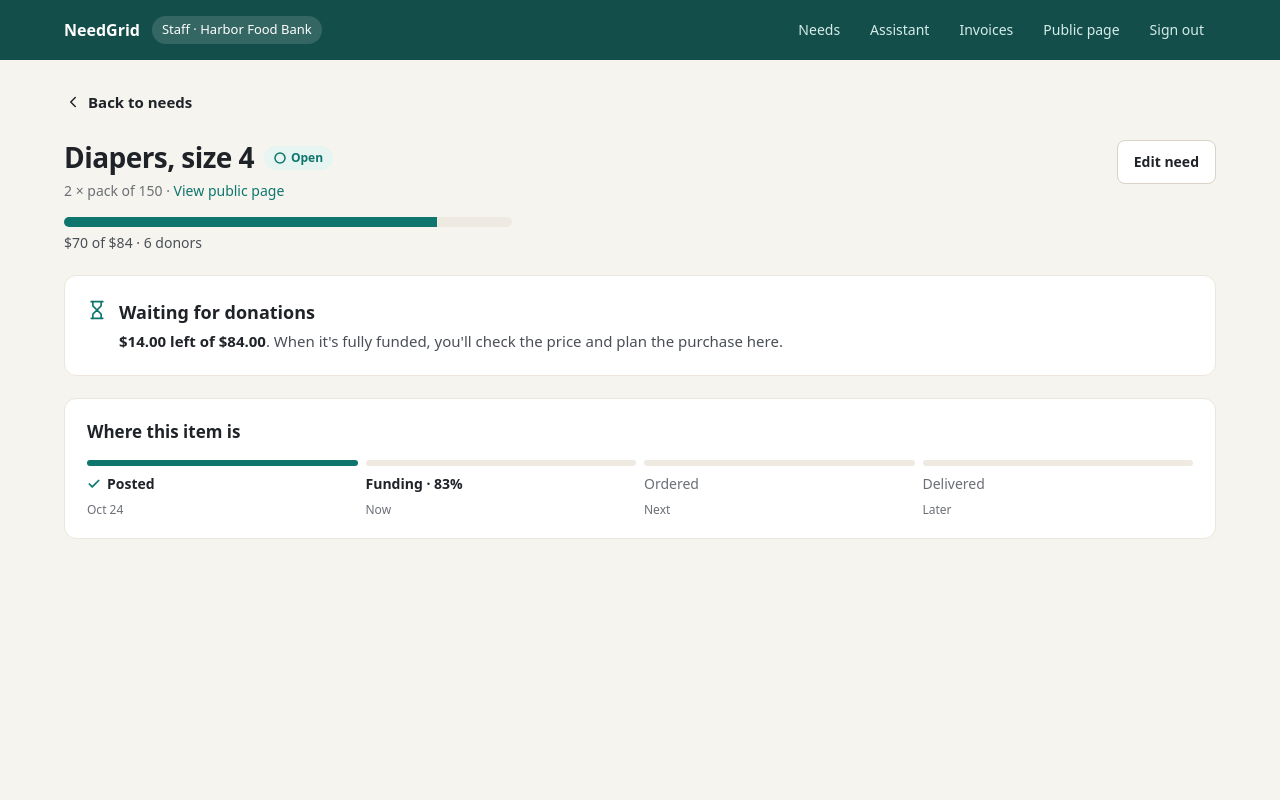
Test: Edit need dialog › closes without a request when nothing changed
The image size is (1280, 800).
expect the heading "Diapers, size 4" is shown: met, box [64, 140, 254, 175]
Click the button "Edit need" at (1166, 162), box [1117, 140, 1216, 184]
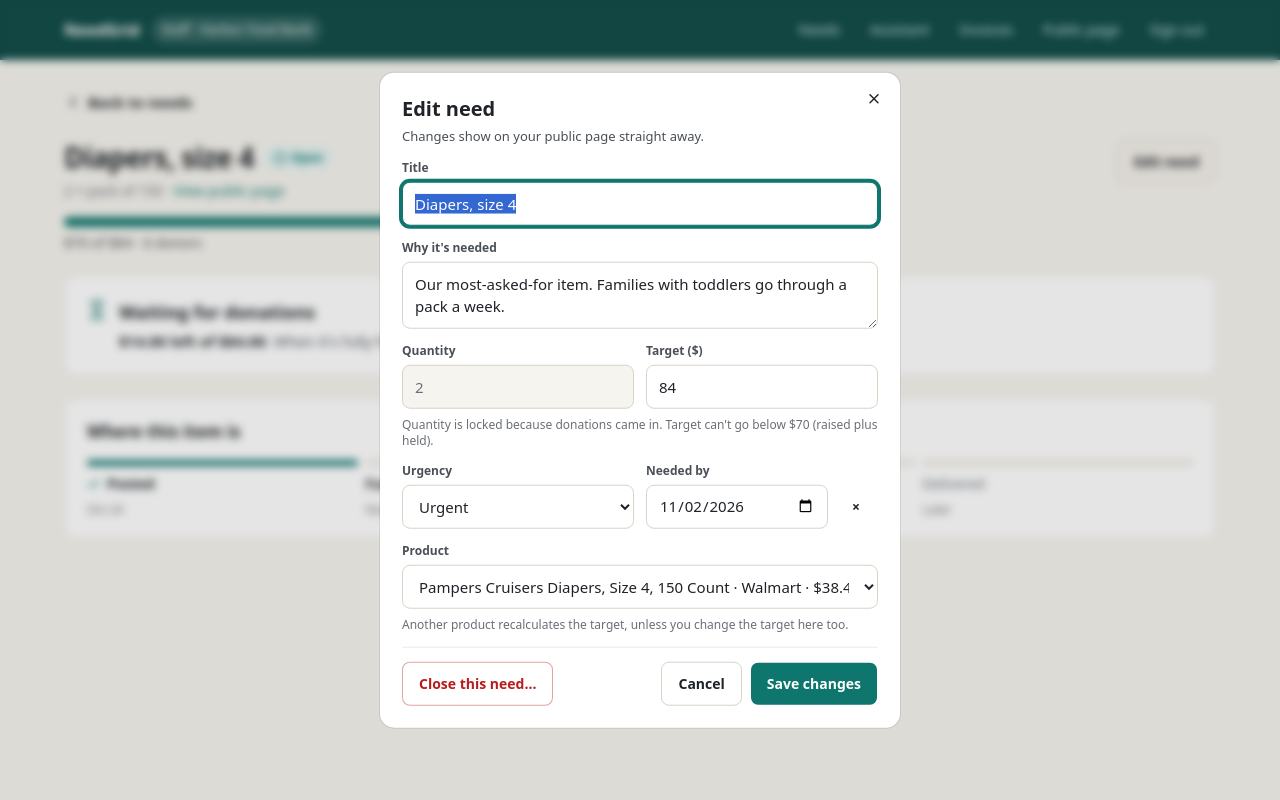
Click the button "Save changes" at (814, 683), box [750, 661, 878, 705]
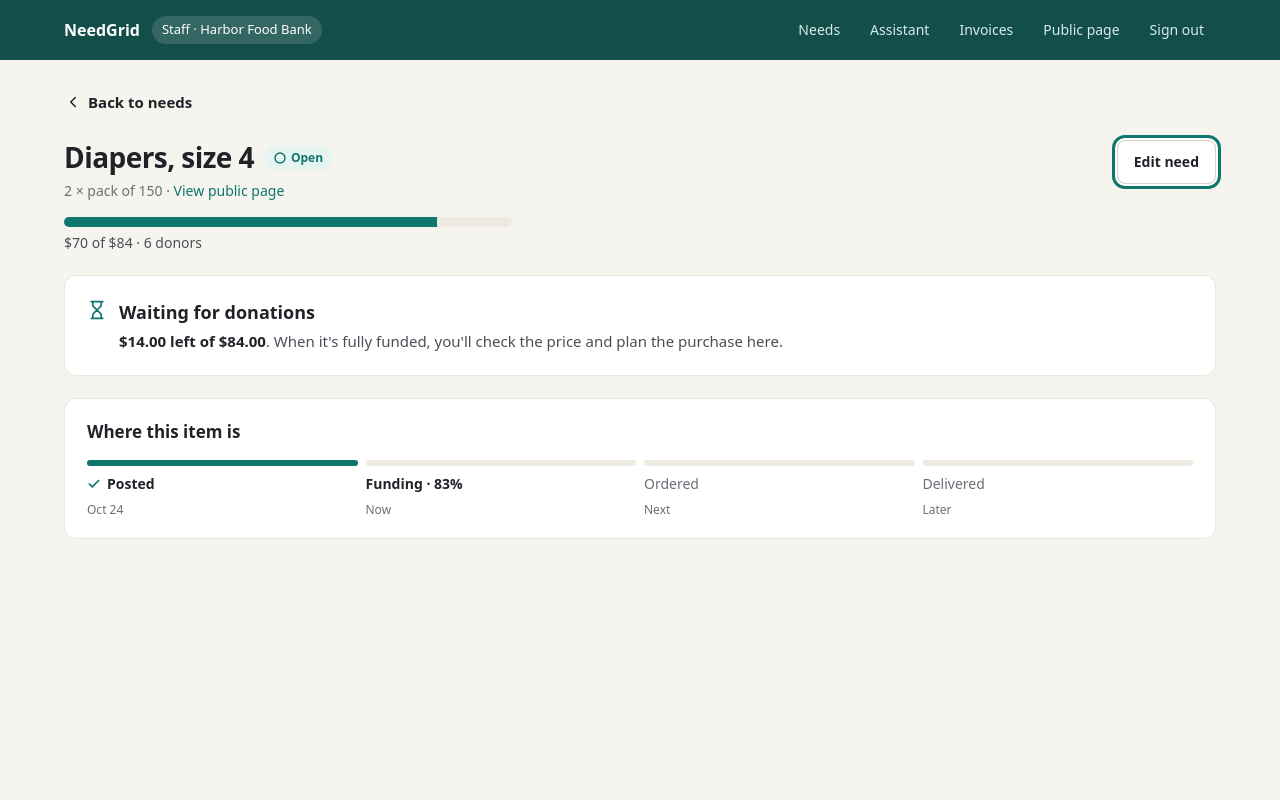
expect the dialog is gone: met
